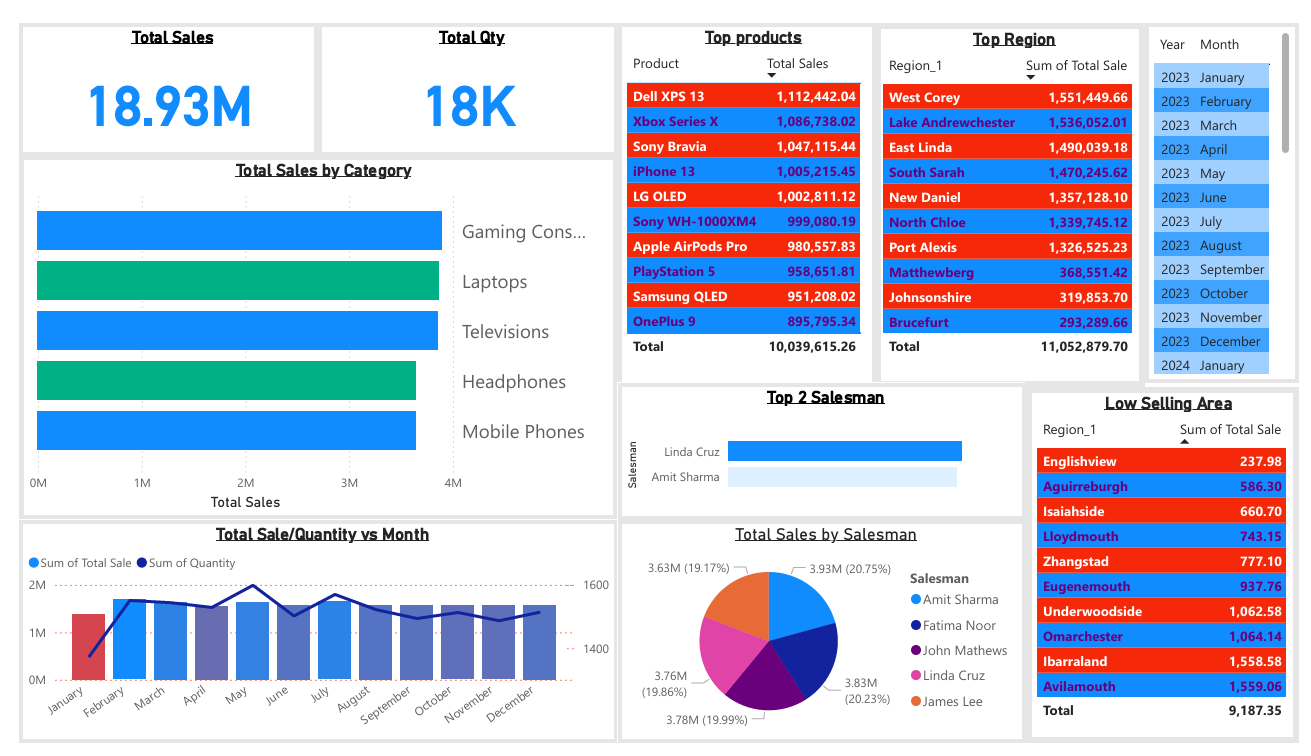

The dashboard page shown, as its layout file describes it:
{"tool":"powerbi","page":{"name":"Page 1","canvas":[1280,720],"ordinal":0},"visuals":[{"type":"card","title":"Total Qty","fields":{"Values":["basemeasure.Qty"]},"box":[299.3,0,299.3,133],"z":0},{"type":"barChart","title":"Total Sales by Category","fields":{"Y":["basemeasure.Total Sales"],"Category":["Sheet1.Category"]},"box":[0,132.4,598.8,364.2],"z":1000},{"type":"lineClusteredColumnComboChart","title":"Total Sale/Quantity vs Month","fields":{"Category":["Sheet1.Date.Variation.Date Hierarchy.Month","Sheet1.Date.Variation.Date Hierarchy.Day"],"Y":["Sheet1.Total Sale"],"Y2":["Sheet1.Quantity"]},"box":[0,496.7,598.8,223.5],"z":2000},{"type":"tableEx","fields":{"Values":["Sheet1.Date.Variation.Date Hierarchy.Year","Sheet1.Date.Variation.Date Hierarchy.Month"]},"box":[1125.8,0,154.5,360.1],"z":3000},{"type":"card","title":"Total Sales","fields":{"Values":["basemeasure.Total Sales"]},"box":[0,0,299.3,133],"z":4000},{"type":"tableEx","title":"Top products","fields":{"Values":["Sheet1.Product","basemeasure.Total Sales"]},"box":[598.8,0,263.5,364.2],"z":5000},{"type":"pieChart","fields":{"Category":["Sheet1.Salesman"],"Y":["basemeasure.Total Sales"]},"box":[598.8,496.7,408.4,223.5],"z":6000},{"type":"tableEx","title":"Top Region","fields":{"Values":["Sheet1.Region_1","Sheet1.Total Sale"]},"box":[852.6,0,273.2,364.2],"z":7000},{"type":"barChart","title":"Top 2 Salesman","fields":{"Y":["basemeasure.AvgSales"],"Category":["Sheet1.Salesman"]},"box":[598.8,360.1,408.4,136.6],"z":7001},{"type":"tableEx","title":"Low Selling Area","fields":{"Values":["Sheet1.Region_1","Sheet1.Total Sale"]},"box":[1007.1,364.2,273.2,355.9],"z":7002}]}

Visuals, with their boxes in screenshot pixels (x1, y1, x2, y2), scaled from the page's 1280x720 canvas onto the 1311x756 screenshot:
"Total Qty" card: <bbox>307, 0, 613, 140</bbox>
"Total Sales by Category" barChart: <bbox>0, 139, 613, 521</bbox>
"Total Sale/Quantity vs Month" lineClusteredColumnComboChart: <bbox>0, 522, 613, 755</bbox>
tableEx - Sheet1.Date.Variation.Date Hierarchy.Year x Sheet1.Date.Variation.Date Hierarchy.Month: <bbox>1153, 0, 1310, 378</bbox>
"Total Sales" card: <bbox>0, 0, 307, 140</bbox>
"Top products" tableEx: <bbox>613, 0, 883, 382</bbox>
pieChart - Sheet1.Salesman x basemeasure.Total Sales: <bbox>613, 522, 1032, 755</bbox>
"Top Region" tableEx: <bbox>873, 0, 1153, 382</bbox>
"Top 2 Salesman" barChart: <bbox>613, 378, 1032, 522</bbox>
"Low Selling Area" tableEx: <bbox>1031, 382, 1310, 755</bbox>
